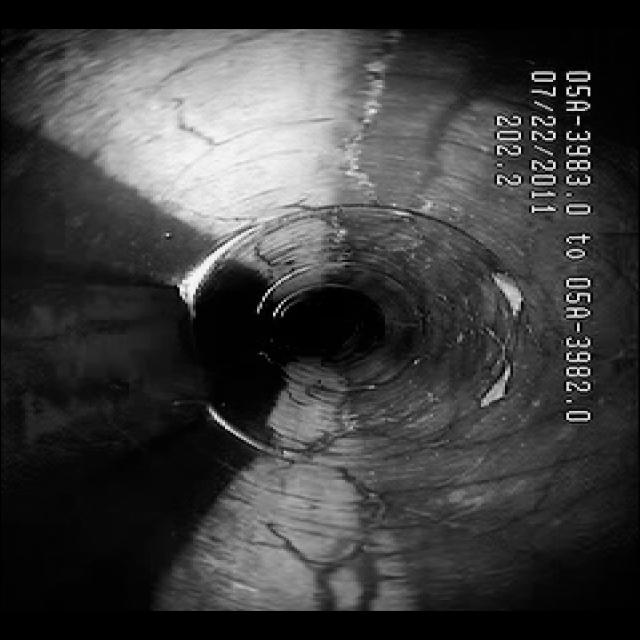Fracture: (311, 45, 411, 259), (142, 43, 258, 159), (296, 476, 412, 588), (289, 388, 418, 464)
